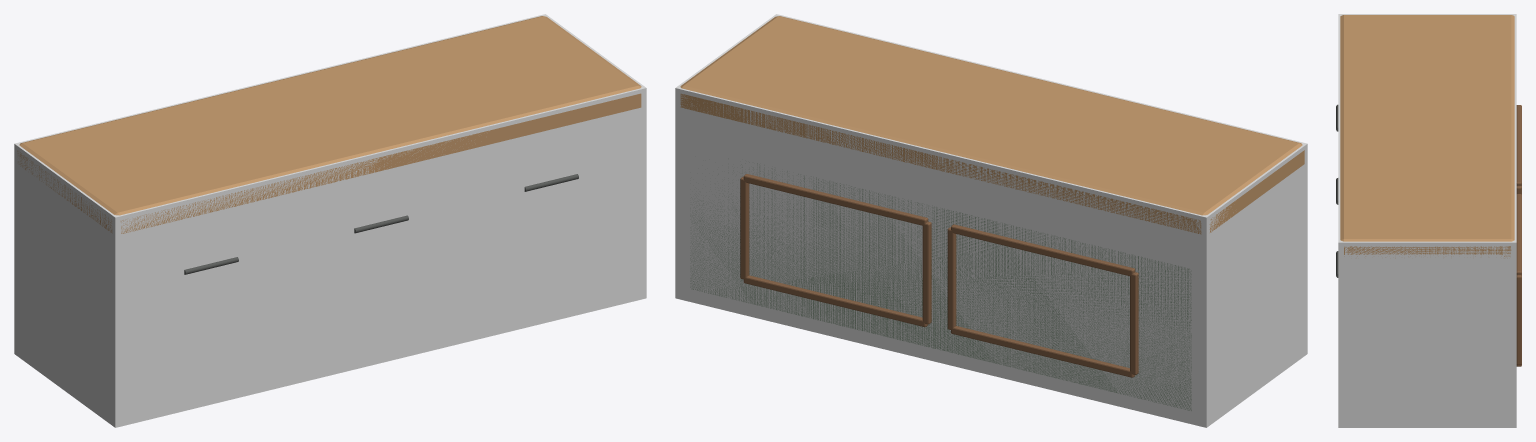
File: premium.glb
The picture shows the model from 3 angles, left to right: view 1: azimuth 30°, elevation 25°; view 2: azimuth 150°, elevation 25°; view 3: azimuth 270°, elevation 25°; orthographic projection. The views are drawn at different scales.
Parts seen in each view (by area): view 1: COL_CHECKOUT_COUNTERS_PREMIUM, Counter_Worktop.002; view 2: COL_CHECKOUT_COUNTERS_PREMIUM, Counter_Worktop.002, Counter_Front.002, Counter_Panel_2_Top, Counter_Panel_1_Top.001, Counter_Panel_1_Bottom.001, Counter_Panel_2_Bottom, Counter_Panel_2_Left, Counter_Panel_1_Right.001, Counter_Panel_2_Right, Counter_Panel_1_Left.001; view 3: Counter_Worktop.002, COL_CHECKOUT_COUNTERS_PREMIUM, Counter_Panel_2_Right, Counter_Panel_2_Top, Counter_Panel_1_Top.001.
Boxes of the visible parts, left/top/right/bottom form: COL_CHECKOUT_COUNTERS_PREMIUM: left=14, top=14, right=646, bottom=427; Counter_Worktop.002: left=17, top=16, right=641, bottom=233; COL_CHECKOUT_COUNTERS_PREMIUM: left=675, top=14, right=1307, bottom=427; Counter_Worktop.002: left=680, top=16, right=1304, bottom=234; Counter_Front.002: left=690, top=158, right=1191, bottom=410; Counter_Panel_2_Top: left=743, top=174, right=928, bottom=225; Counter_Panel_1_Top.001: left=951, top=224, right=1135, bottom=276; Counter_Panel_1_Bottom.001: left=951, top=326, right=1135, bottom=377; Counter_Panel_2_Bottom: left=743, top=275, right=927, bottom=326; Counter_Panel_2_Left: left=922, top=221, right=931, bottom=324; Counter_Panel_1_Right.001: left=947, top=227, right=956, bottom=329; Counter_Panel_2_Right: left=740, top=176, right=749, bottom=279; Counter_Panel_1_Left.001: left=1130, top=272, right=1138, bottom=374; Counter_Worktop.002: left=1340, top=15, right=1514, bottom=258; COL_CHECKOUT_COUNTERS_PREMIUM: left=1338, top=14, right=1516, bottom=427; Counter_Panel_2_Right: left=1516, top=275, right=1521, bottom=364; Counter_Panel_2_Top: left=1516, top=194, right=1521, bottom=275; Counter_Panel_1_Top.001: left=1516, top=105, right=1521, bottom=185.
Bounding box in the file's own units: 2.74 × 1.04 × 0.9398.
